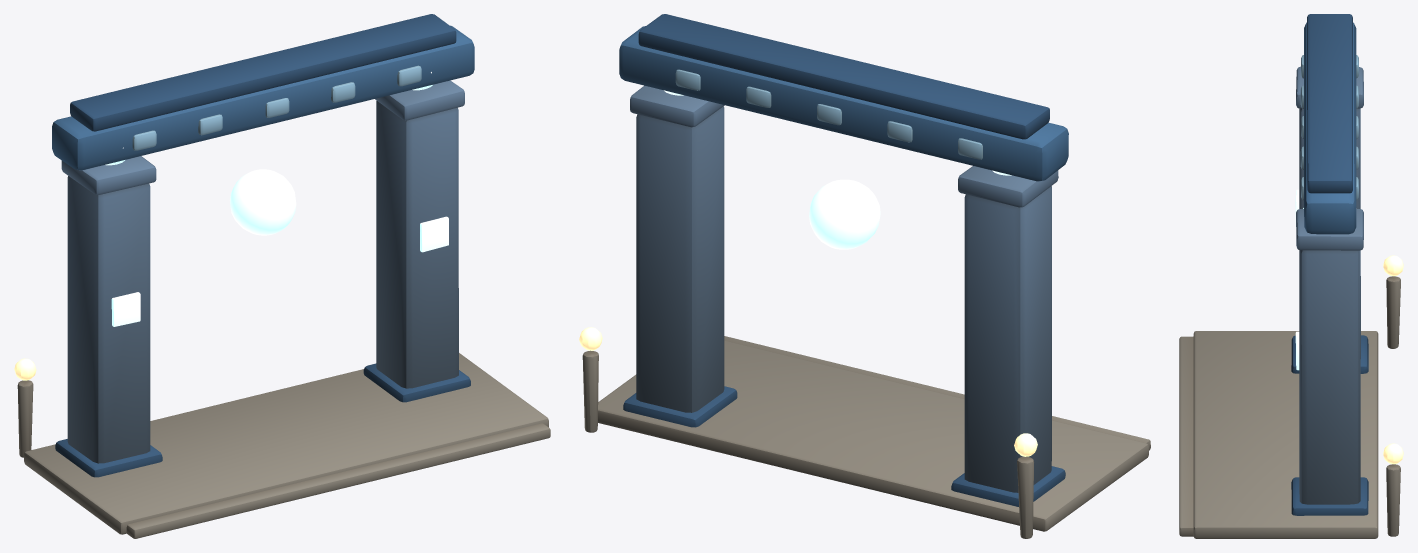
3 views of the same model, side by side, from view 1: azimuth 30°, elevation 25°; view 2: azimuth 150°, elevation 25°; view 3: azimuth 270°, elevation 25° (orthographic). The views are drawn at different scales.
Parts seen in each view (by area): view 1: gate_72fdbae4; view 2: gate_72fdbae4; view 3: gate_72fdbae4.
Part boxes in pixels (<box>): gate_72fdbae4: <box>14,14,550,538</box>; gate_72fdbae4: <box>579,14,1150,538</box>; gate_72fdbae4: <box>1179,14,1403,538</box>.
Size of the model in its own units: 5.32 by 4.33 by 2.55.
